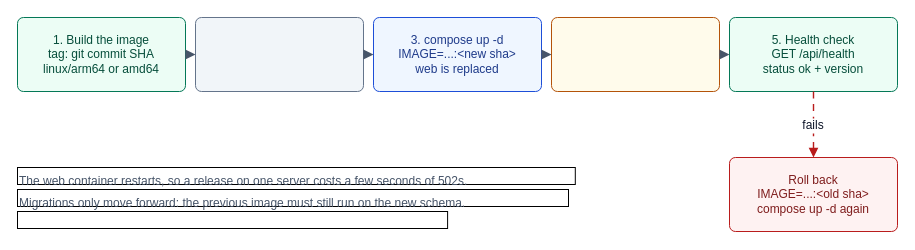
Some shapes in this 915 by 250 pixel diagram are drawn without their labels. Each missing label, with the centre of its shape:
"2. Push it GHCR or ECR keep old tags" goes at pixel 279 54.
"4. Migrations run on start, under a pg advisory lock" goes at pixel 635 54.
"Postgres and Caddy keep running; only the web container changes." goes at pixel 232 219.
